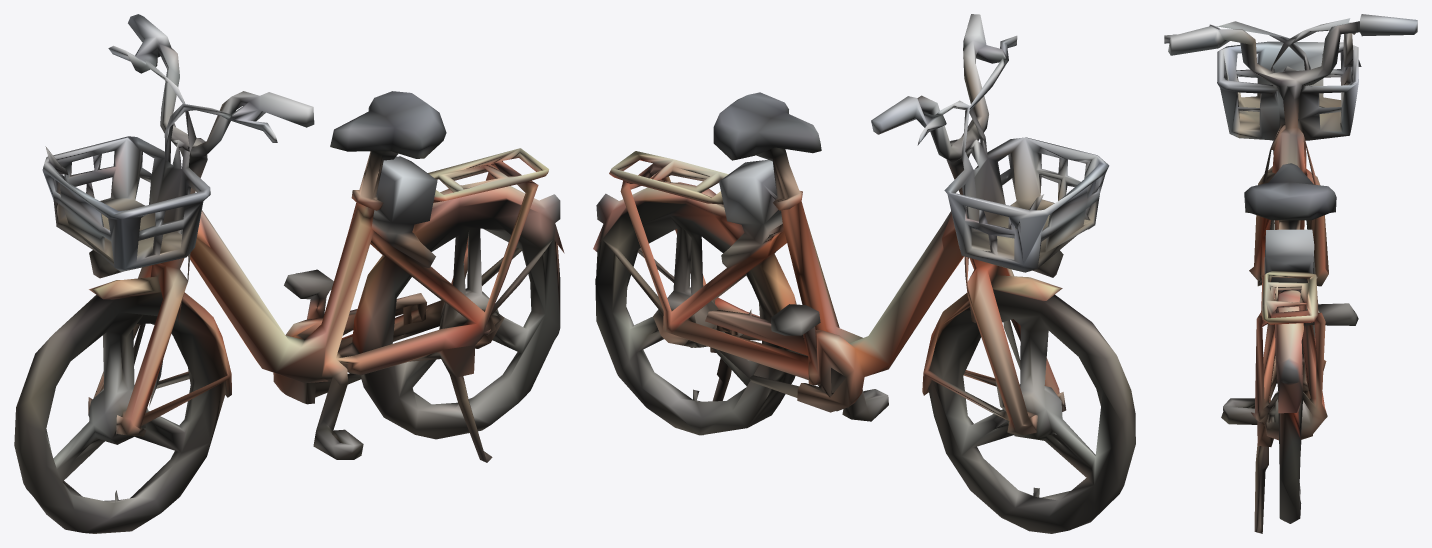
The model's file is bike_share.glb.
3 views of the same model, side by side, from view 1: azimuth 30°, elevation 25°; view 2: azimuth 150°, elevation 25°; view 3: azimuth 270°, elevation 25° (orthographic). The views are drawn at different scales.
Visible parts, largest first — view 1: world; view 2: world; view 3: world.
Boxes of the visible parts, left/top/right/bottom form: world: left=14, top=14, right=564, bottom=533; world: left=593, top=14, right=1135, bottom=533; world: left=1164, top=14, right=1417, bottom=533.
Size of the model in its own units: 1.37 by 1.08 by 0.6176.
